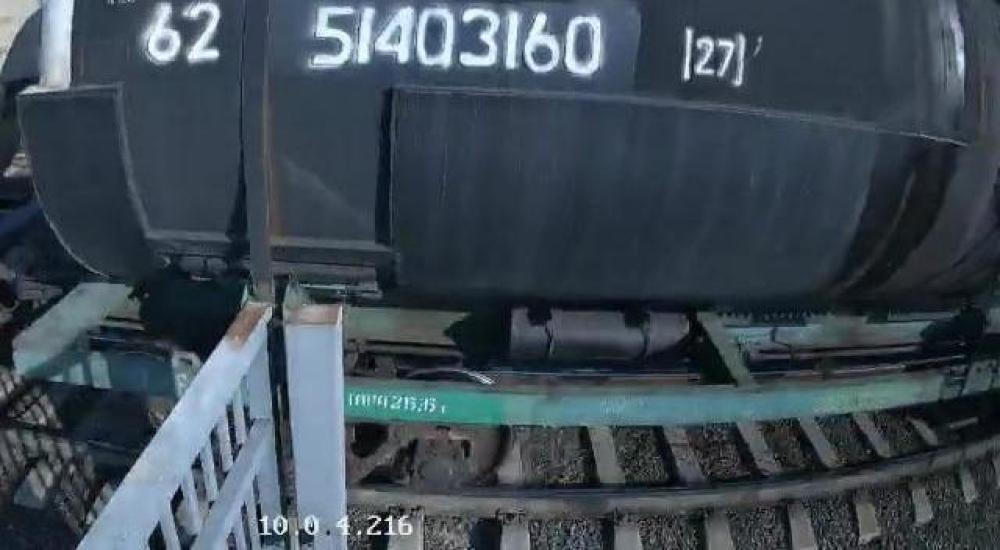Wagon-number: (304, 0, 608, 84)
